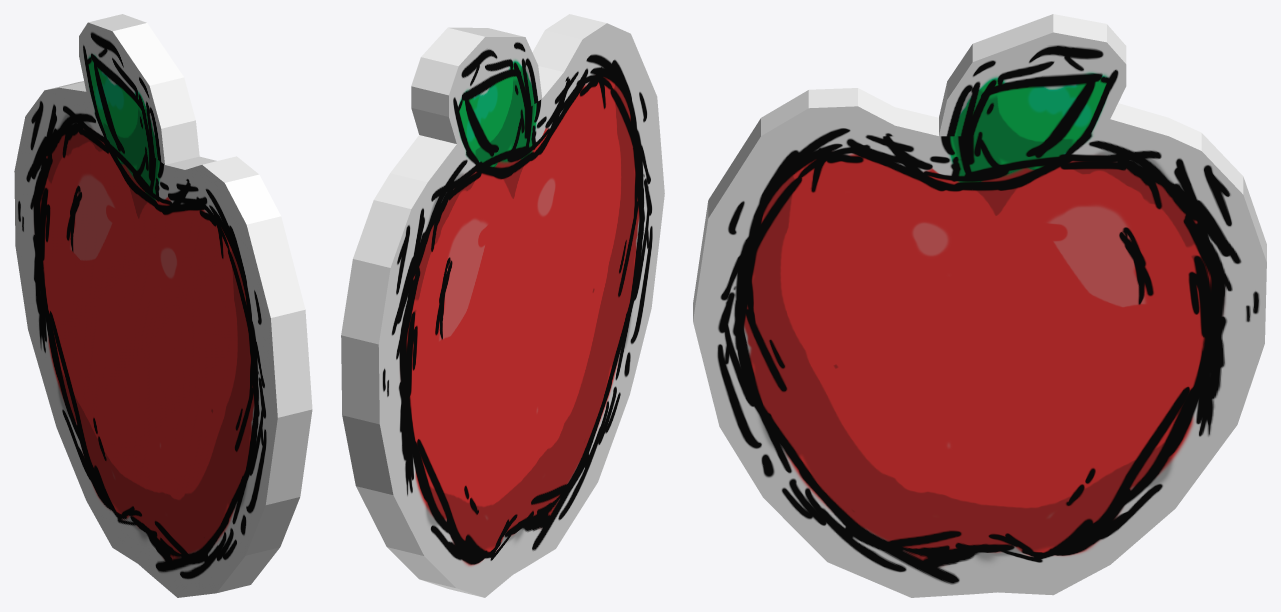
Rendered from Manzana.fbx.
3 renders of one model, left to right at view 1: azimuth 30°, elevation 25°; view 2: azimuth 150°, elevation 25°; view 3: azimuth 270°, elevation 25°, orthographic. The views are drawn at different scales.
Visible parts, largest first — view 1: Manzana; view 2: Manzana; view 3: Manzana.
Boxes of the visible parts, x1=… form: Manzana: x1=14, y1=14, x2=312, y2=597; Manzana: x1=341, y1=14, x2=664, y2=597; Manzana: x1=693, y1=14, x2=1266, y2=597.
Bounding box in the file's own units: 6.42 × 91.8 × 84.44.
